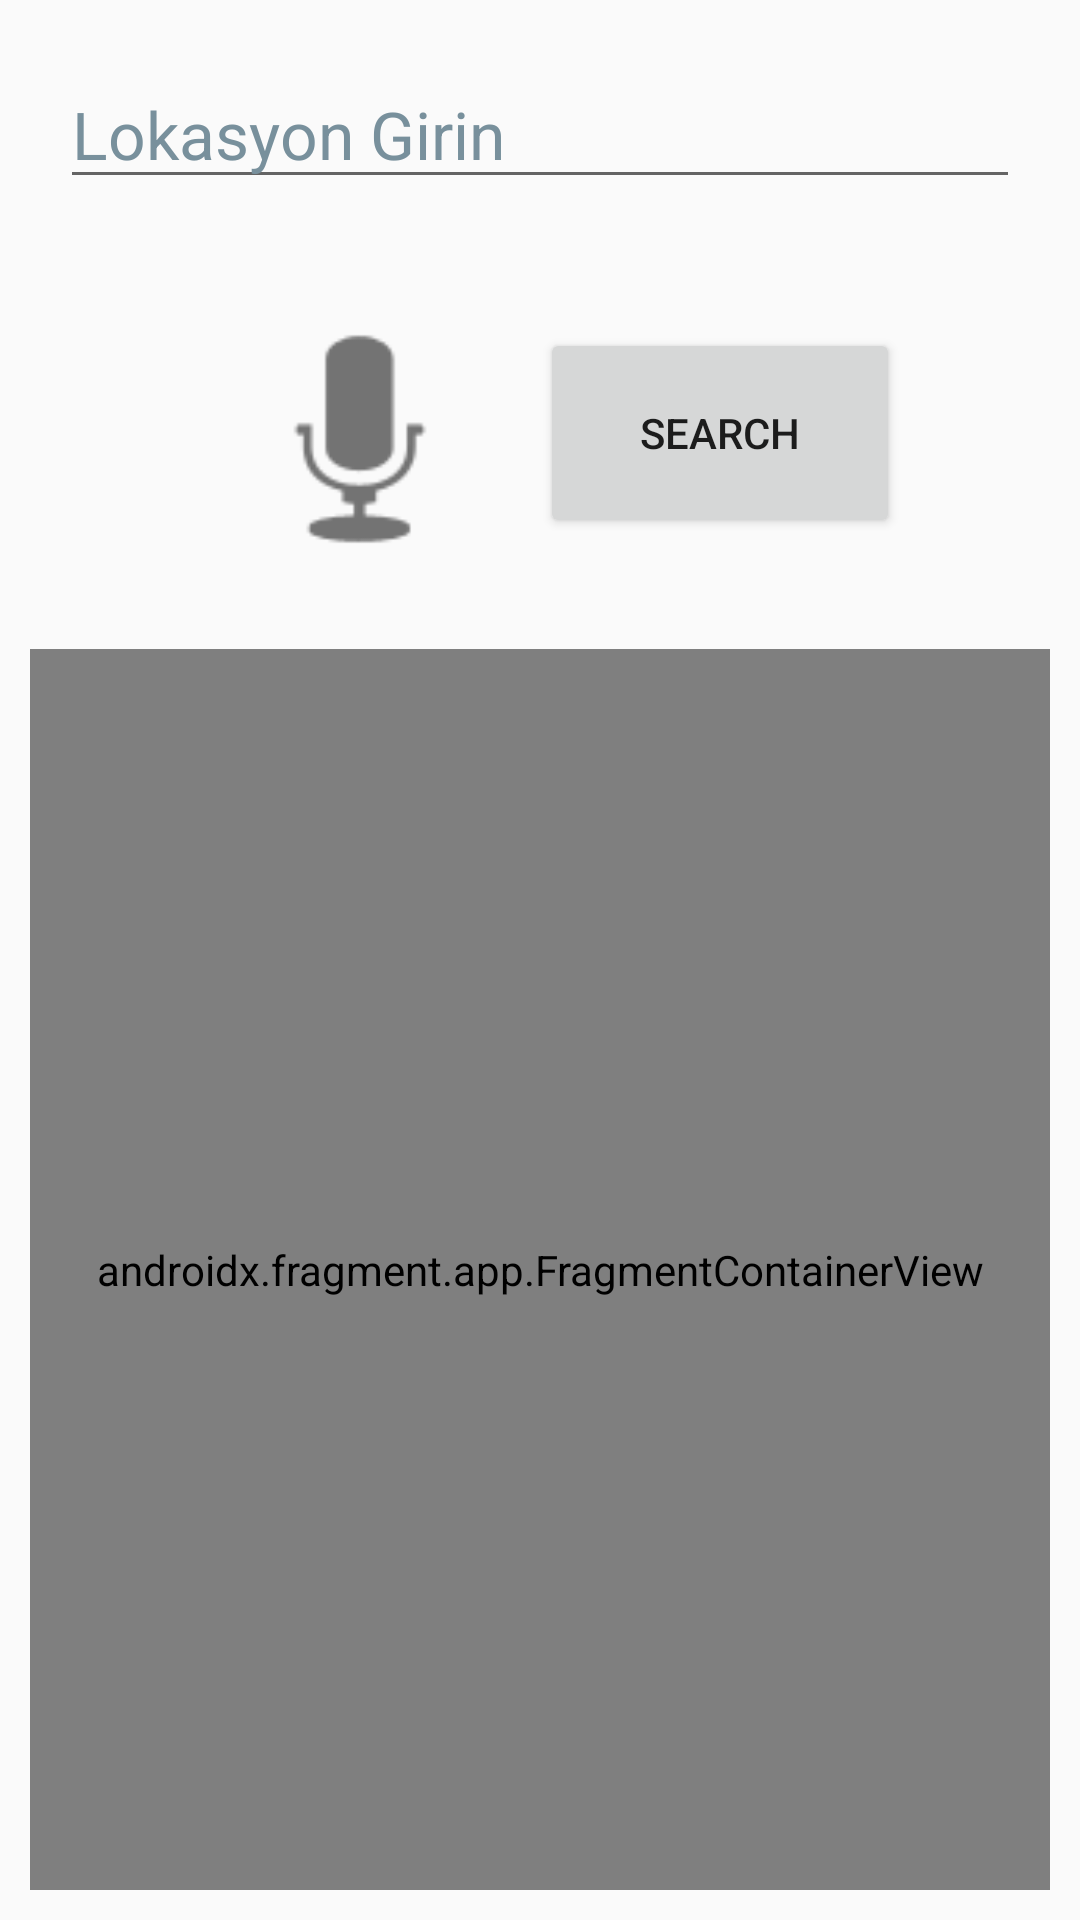

Icons on this 1080px×1920px Android screen, each with the point to tap as (x,y):
speak now: (359,439)
